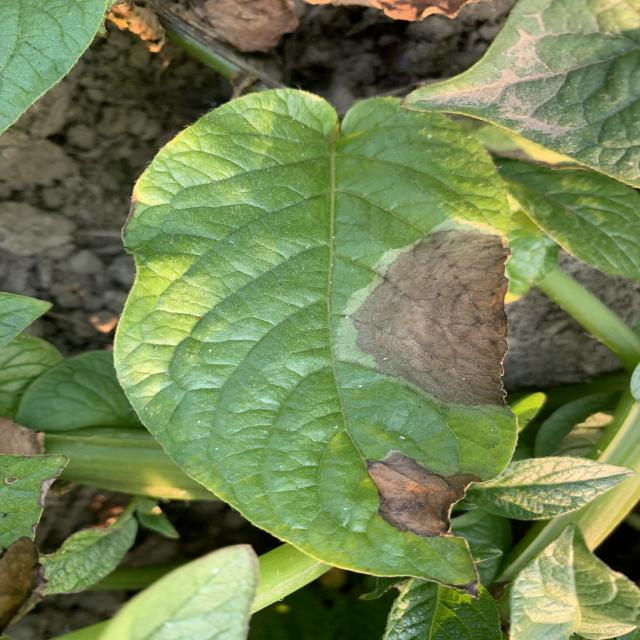lateblight: (352, 229, 508, 405), (367, 451, 478, 536)
